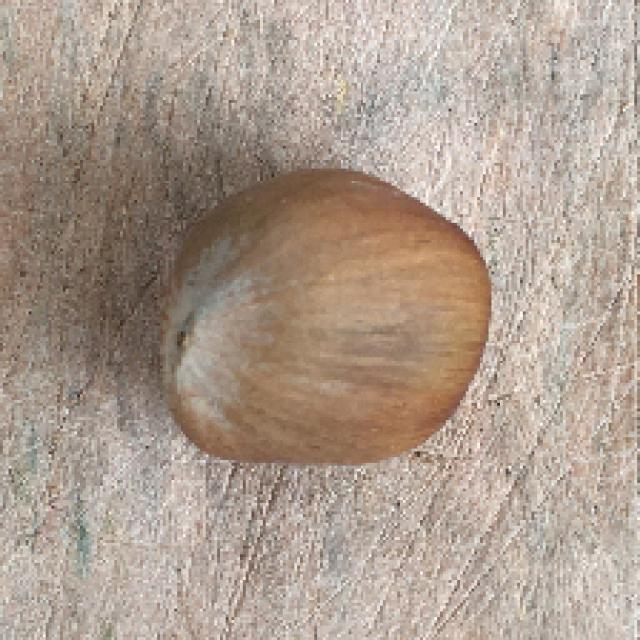damagedHazelnut: (160, 158, 484, 472)
